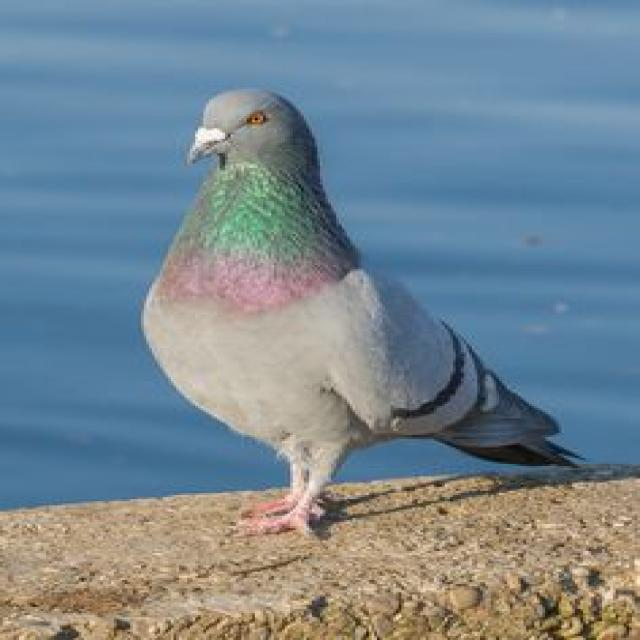Herbivorous: (141, 87, 578, 534)
